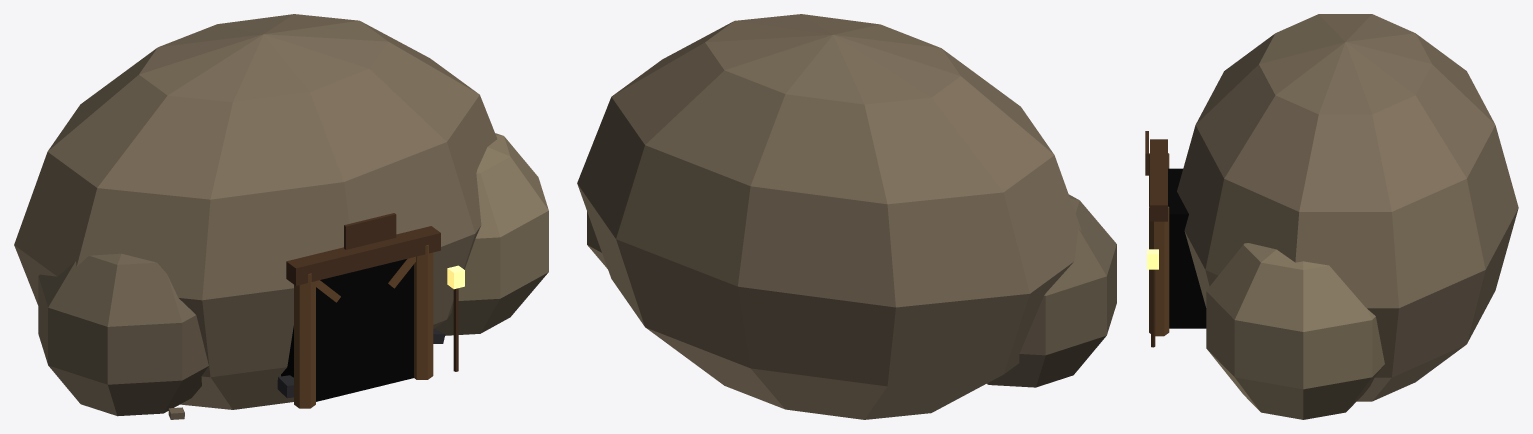
Rendered from soegol_mine_entrance.glb.
3 renders of one model, left to right at view 1: azimuth 30°, elevation 25°; view 2: azimuth 150°, elevation 25°; view 3: azimuth 270°, elevation 25°, orthographic. The views are drawn at different scales.
Parts seen in each view (by area): view 1: soegol_mine_entrance; view 2: soegol_mine_entrance; view 3: soegol_mine_entrance.
Boxes of the visible parts, box(x1,y1,x2,y2) form: soegol_mine_entrance: box(14, 14, 548, 419); soegol_mine_entrance: box(577, 14, 1116, 419); soegol_mine_entrance: box(1145, 14, 1518, 419).
Bounding box in the file's own units: 8.84 × 6.08 × 6.21.
